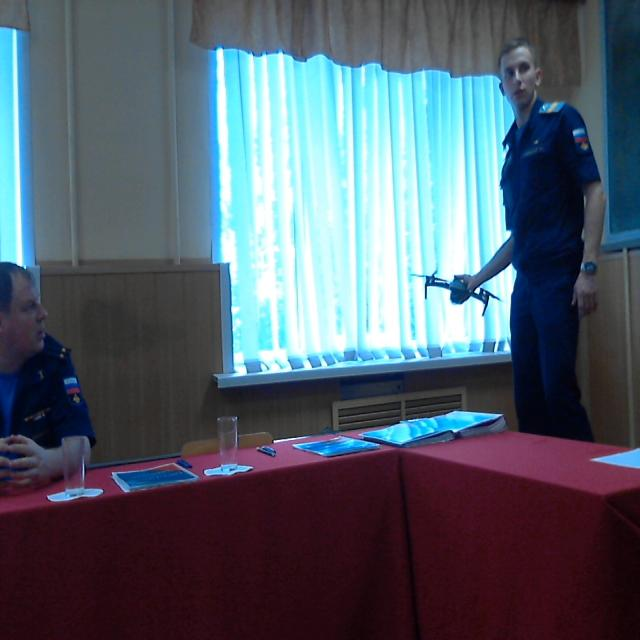drone: (391, 246, 507, 324)
